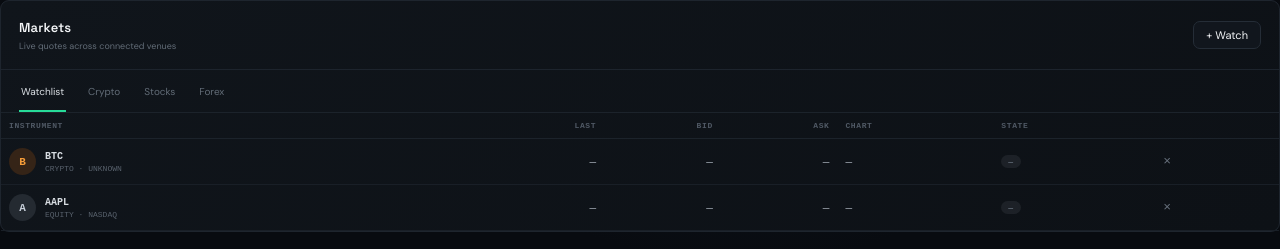
Test: Markets card (M1 Figma restyle) › filters rows by the asset-class tabs
Expected: the row with test id "watch-BTC" is shown, [1, 138, 1279, 184]
Expected: the row with test id "watch-AAPL" is shown, [1, 184, 1279, 230]
What coordinates should you click on to do the following:
click the tab "Crypto"
I would click on:
 (104, 91)
Its box is [86, 70, 122, 112].
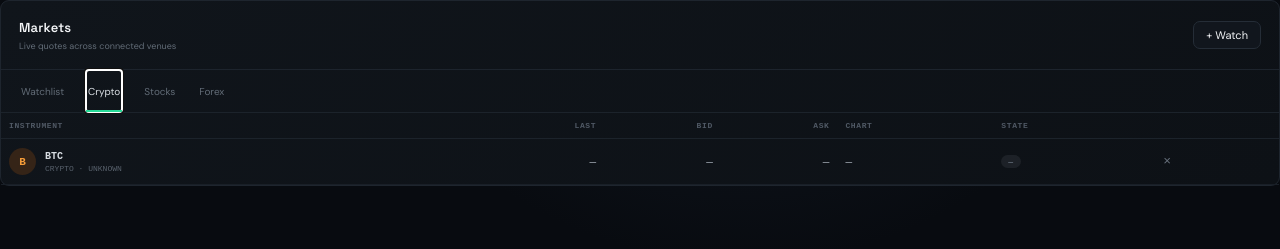
Expected: the row with test id "watch-BTC" is shown, [1, 138, 1279, 184]
Result: the row with test id "watch-AAPL" is gone
